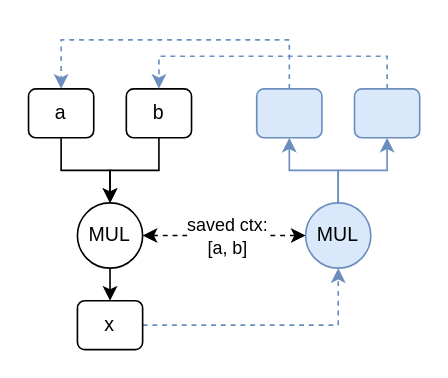
The diagram is 448 pixels wide and 378 high, and some of its shapes have lost their labels. The shapes that lost their labels are listed below. From the top down, each one's centre as x and y in pixels, then its label:
At pixel 288 112: "a.grad".
At pixel 386 112: "b.grad".
